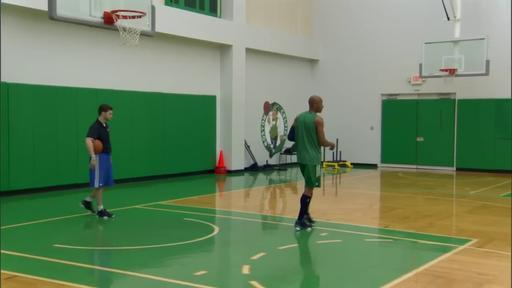ball: (94, 138, 102, 152)
human: (286, 95, 336, 230), (80, 104, 116, 219)
rim: (103, 9, 146, 47), (438, 68, 458, 84)
